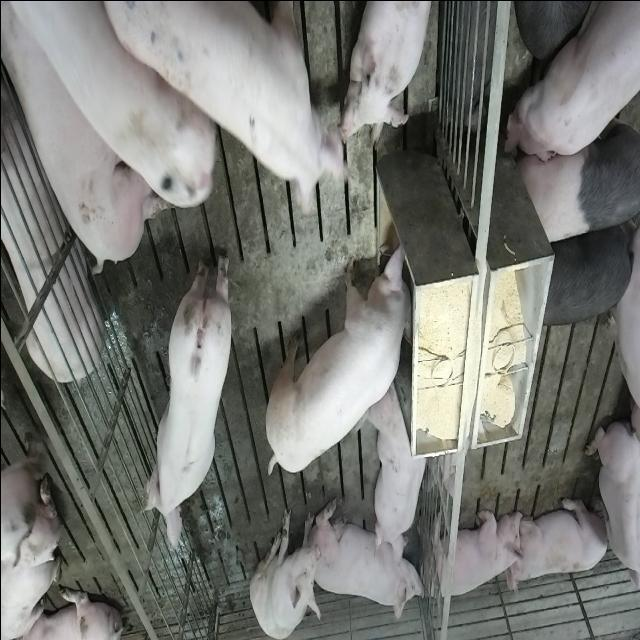Feeding: (270, 234, 420, 476)
Lateral_lying: (0, 58, 103, 384)
Sitting: (249, 503, 320, 638)
Standing: (5, 2, 226, 225), (139, 244, 234, 544), (502, 0, 638, 167), (512, 83, 638, 243), (535, 216, 637, 329)
Sternal_lying: (314, 502, 426, 628), (344, 0, 436, 146), (369, 383, 431, 561), (584, 414, 637, 604), (426, 503, 524, 603), (510, 491, 610, 588)
